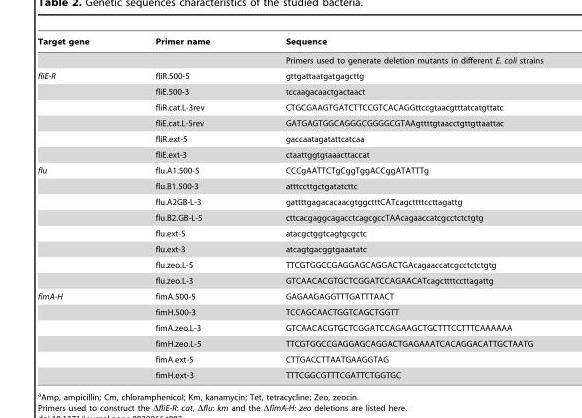table: (37, 36, 542, 379)
table column: (247, 36, 542, 379), (121, 36, 247, 379), (37, 36, 121, 379)
table column header: (37, 36, 542, 50)
table row: (37, 50, 542, 67), (37, 67, 542, 83), (37, 83, 542, 99), (37, 99, 542, 115), (37, 130, 542, 146), (37, 146, 542, 162), (37, 162, 542, 178), (37, 193, 542, 209), (37, 209, 542, 225), (37, 225, 542, 241), (37, 256, 542, 272), (37, 272, 542, 288), (37, 288, 542, 304), (37, 319, 542, 335), (37, 335, 542, 351), (37, 351, 542, 367), (37, 115, 542, 130), (37, 178, 542, 193), (37, 241, 542, 256), (37, 304, 542, 319), (37, 36, 542, 50), (37, 367, 542, 379)
table spanning cell: (37, 162, 121, 288), (37, 67, 121, 162), (37, 288, 121, 379)
